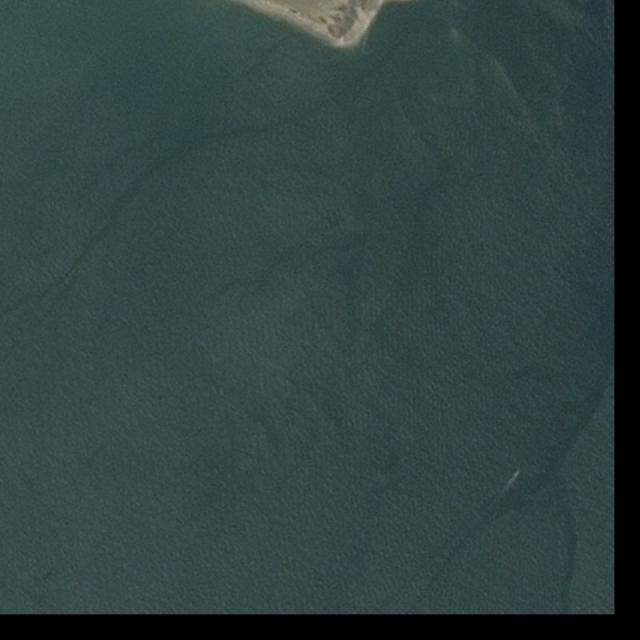ship: (512, 470, 522, 482)
